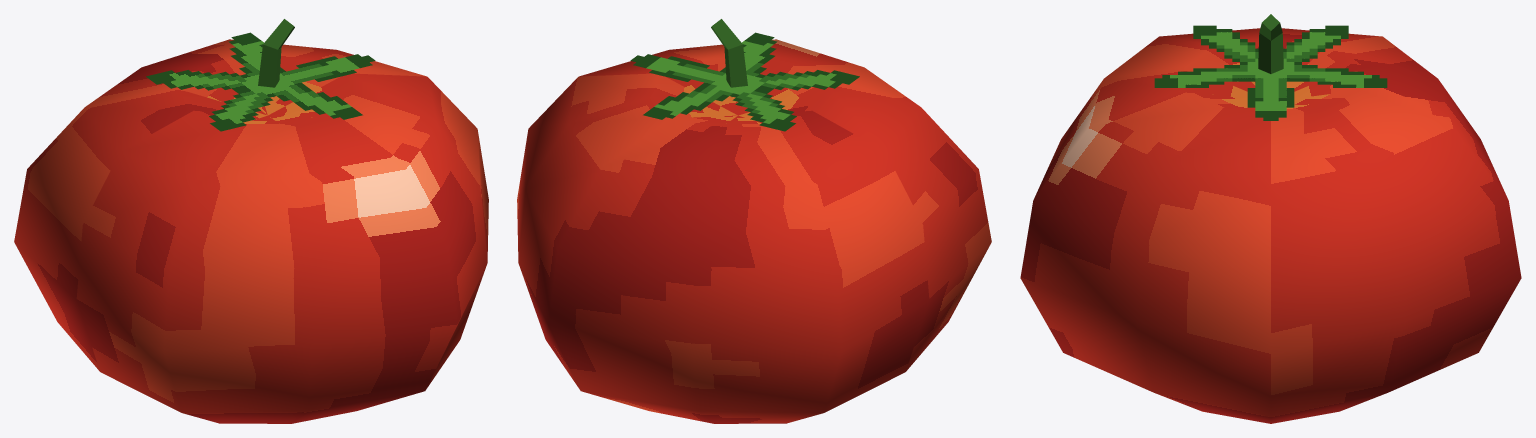
The model's file is produce-tomato.glb.
The picture shows the model from 3 angles, left to right: view 1: azimuth 30°, elevation 25°; view 2: azimuth 150°, elevation 25°; view 3: azimuth 270°, elevation 25°; orthographic projection. The views are drawn at different scales.
Visible parts, largest first — view 1: produce.tomato; view 2: produce.tomato; view 3: produce.tomato.
Part boxes in pixels (box(x1,y1,x2,y2)): produce.tomato: box(14, 19, 488, 423); produce.tomato: box(517, 19, 991, 423); produce.tomato: box(1020, 14, 1521, 423).
Bounding box in the file's own units: 1.73 × 1.44 × 1.76.
Materials: 3 (2 with a texture image).
